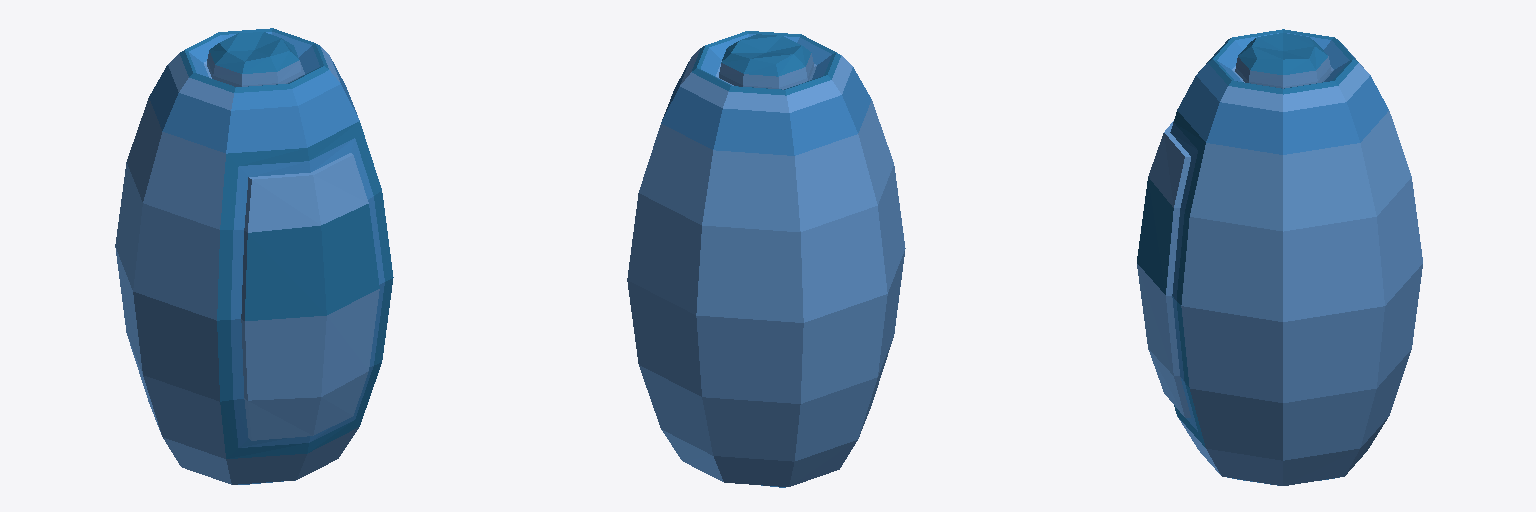
3 renders of one model, left to right at view 1: azimuth 30°, elevation 25°; view 2: azimuth 150°, elevation 25°; view 3: azimuth 270°, elevation 25°, orthographic.
Visible parts, largest first — view 1: Ship_Cube, Door_Cube.001; view 2: Ship_Cube; view 3: Ship_Cube, Door_Cube.001.
Part boxes in pixels (x1,y1,x2,y2): Ship_Cube: (115, 28, 393, 484); Door_Cube.001: (241, 153, 379, 440); Ship_Cube: (627, 31, 905, 487); Ship_Cube: (1170, 29, 1422, 485); Door_Cube.001: (1137, 121, 1190, 417).
Bounding box in the file's own units: 3.76 × 6.21 × 3.84.
1 materials, 1 textured.